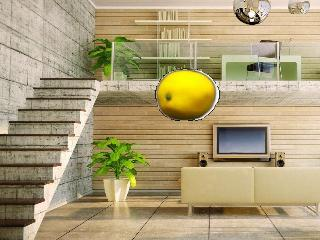lemon: (157, 71, 215, 121)
